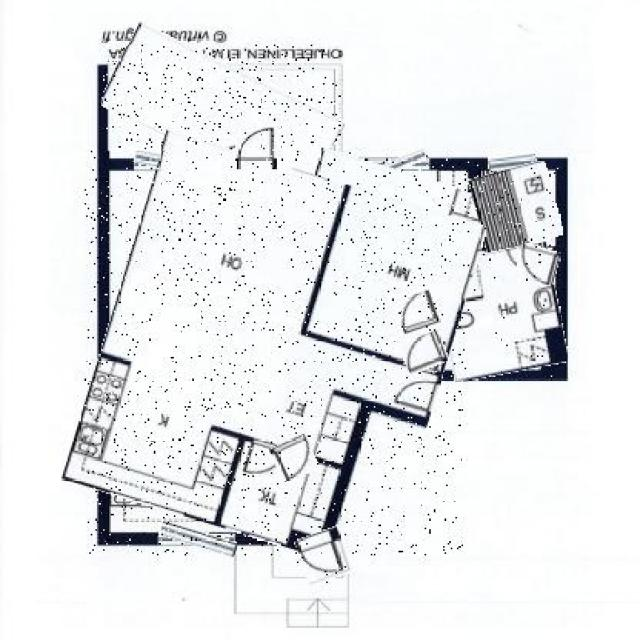door: (297, 529, 348, 583), (272, 437, 317, 480), (237, 126, 277, 169), (402, 332, 446, 371), (397, 291, 437, 332), (517, 246, 558, 285)
window: (158, 526, 237, 551), (134, 154, 221, 175), (369, 154, 428, 175), (488, 154, 535, 171), (277, 532, 292, 545)
zone: (84, 151, 464, 555), (288, 160, 483, 332), (105, 45, 342, 182), (439, 246, 563, 377), (264, 437, 382, 541), (472, 164, 560, 250)
